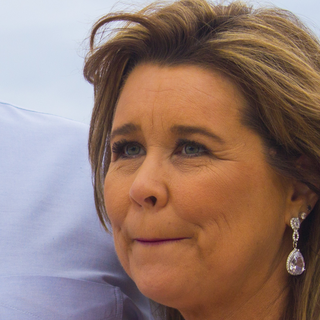eye: (169, 138, 220, 163), (109, 138, 149, 164)
